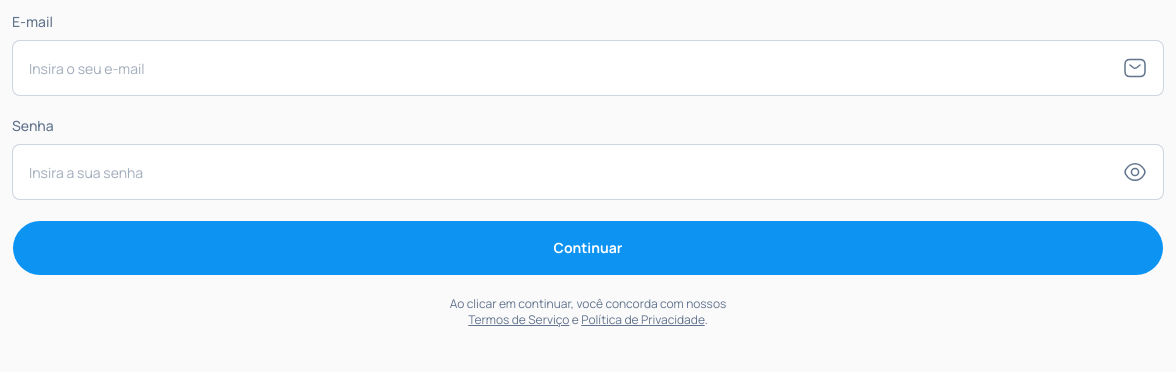
Test: LoginForm › shows validation error for empty password
The width and height of the screenshot is (1176, 372).
Type "user@email.com" into the field with placeholder "Insira o seu e-mail" at (576, 68), box x1=29 y1=41 x2=1123 y2=95
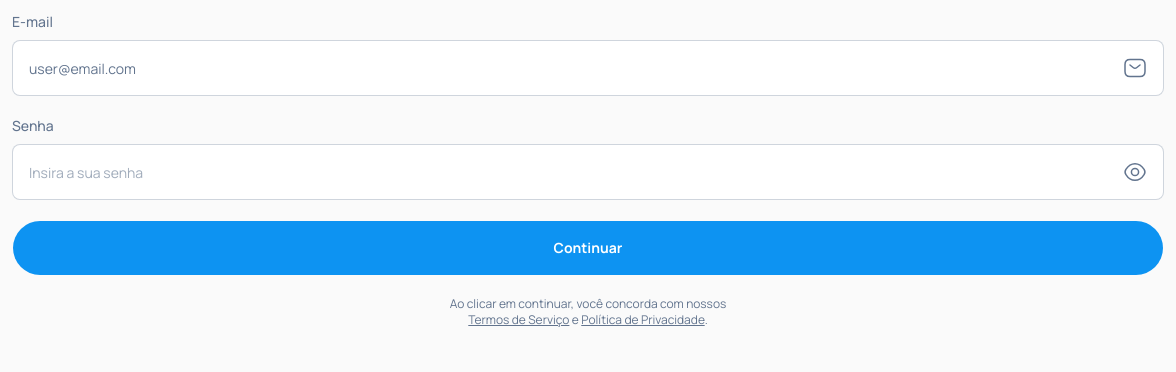
Click the button "Continuar" at (588, 248), box x1=12 y1=220 x2=1164 y2=276
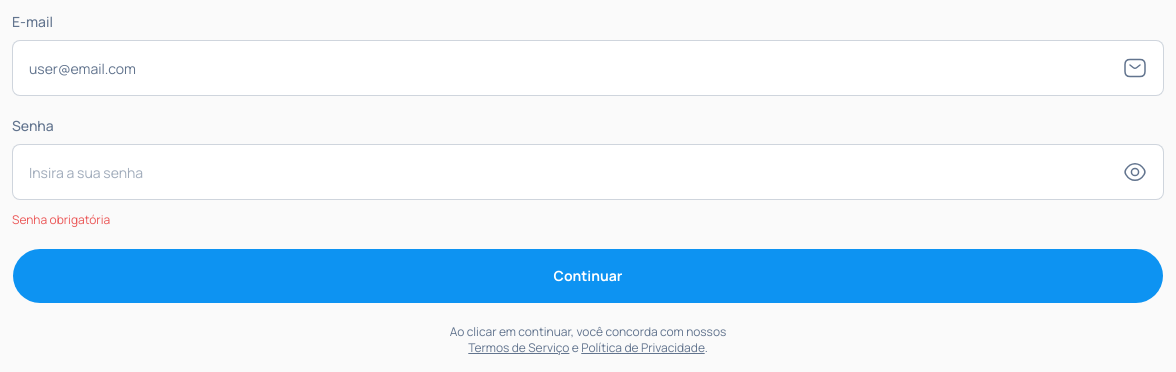
Expected: the text "Senha obrigatória" is shown, x1=12 y1=211 x2=110 y2=228
